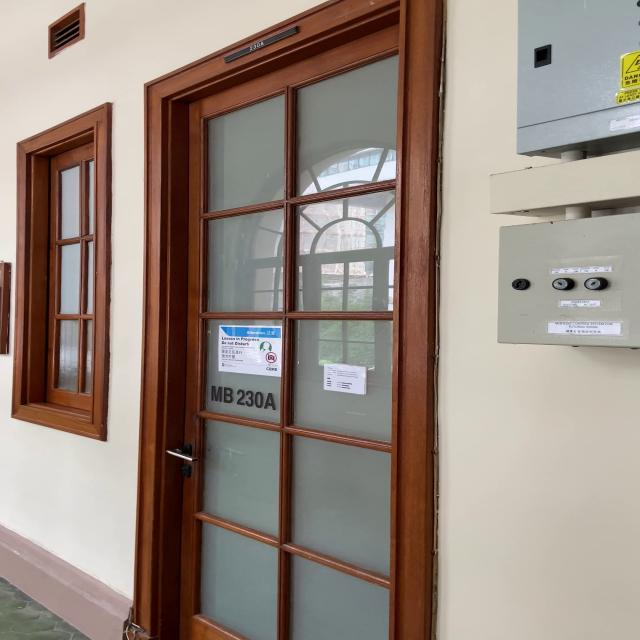room230A: (245, 40, 266, 52)
room230AWindow: (206, 384, 278, 412)
